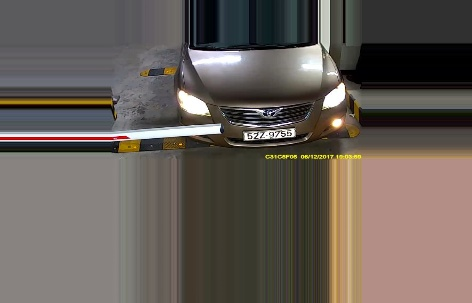plate: (242, 125, 300, 145)
